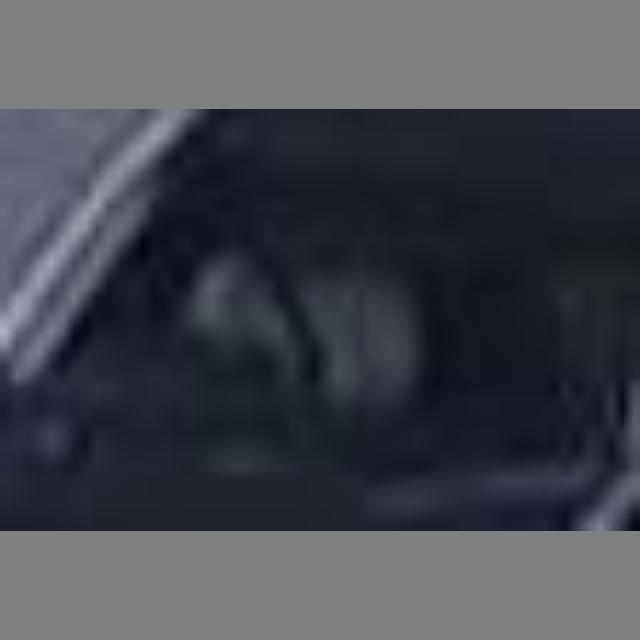pakai: (194, 200, 423, 452)
